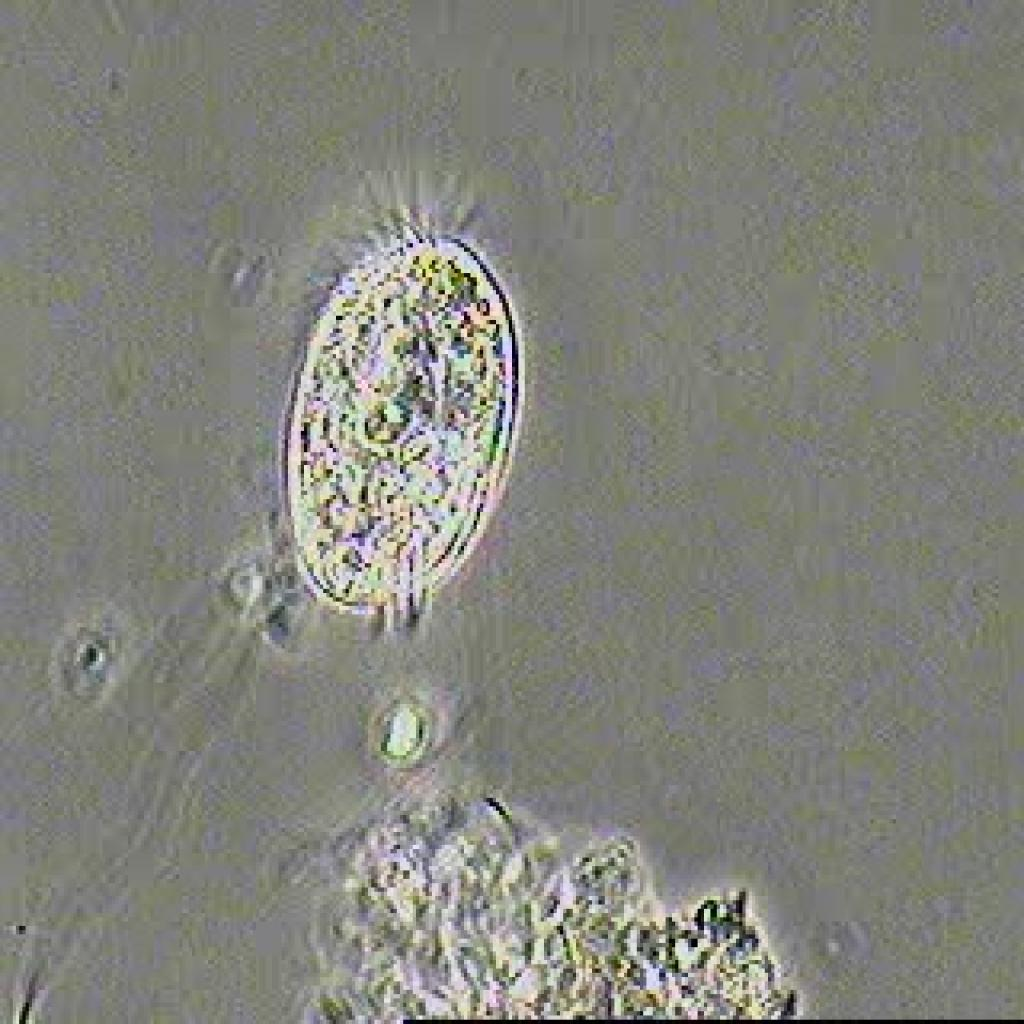Chilodonella: (238, 158, 581, 683)
